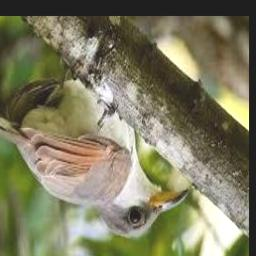Cuckoo: (0, 66, 190, 239)
